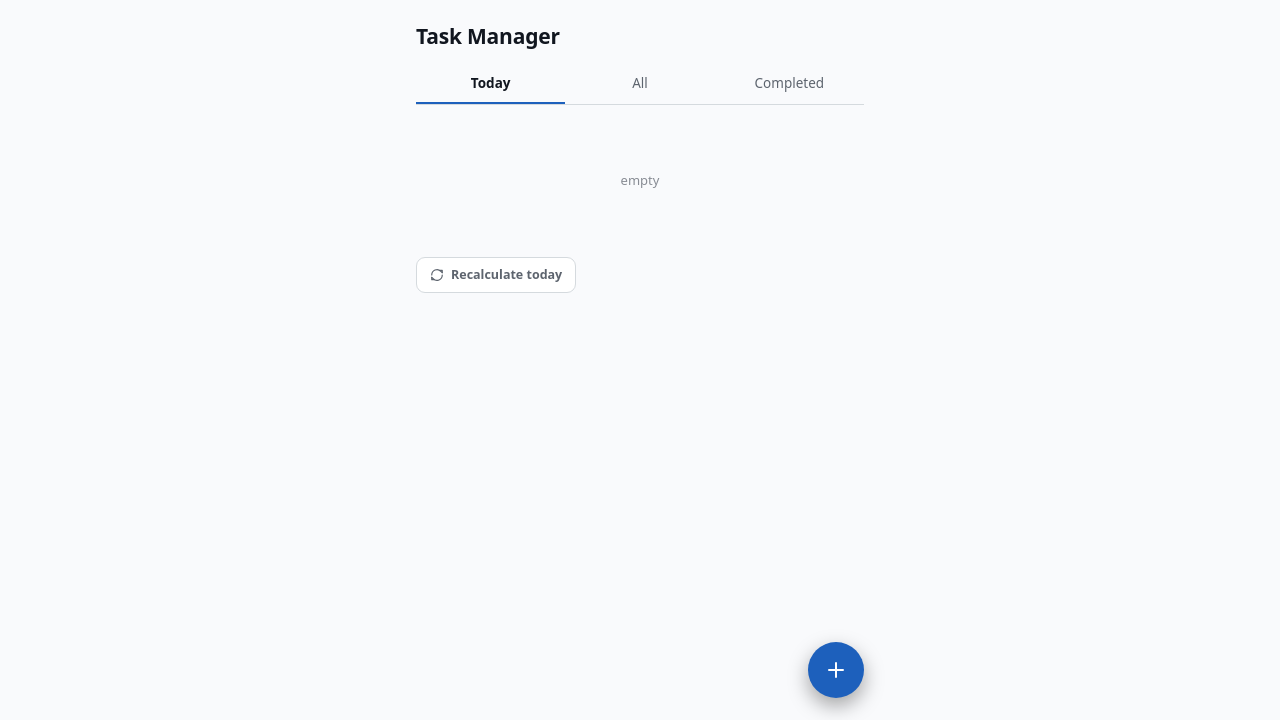
Test case: creating a task (8.1) › offers exactly nine duration buttons and five priority choices
Click the button named "Add a task".
click(836, 670)  # box 808,642 -> 864,698
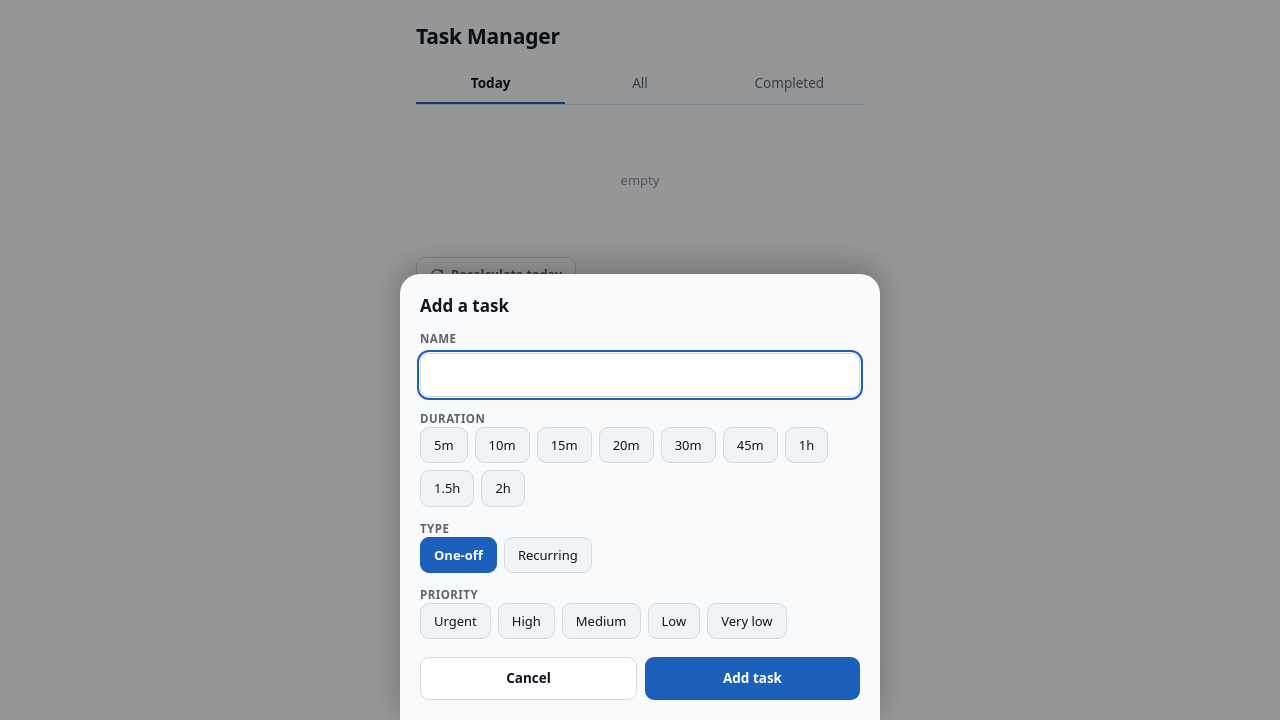
Result: the button "5m" is shown at 420,427 -> 468,463
Result: the button "10m" is shown at 475,427 -> 530,463
Result: the button "15m" is shown at 537,427 -> 592,463
